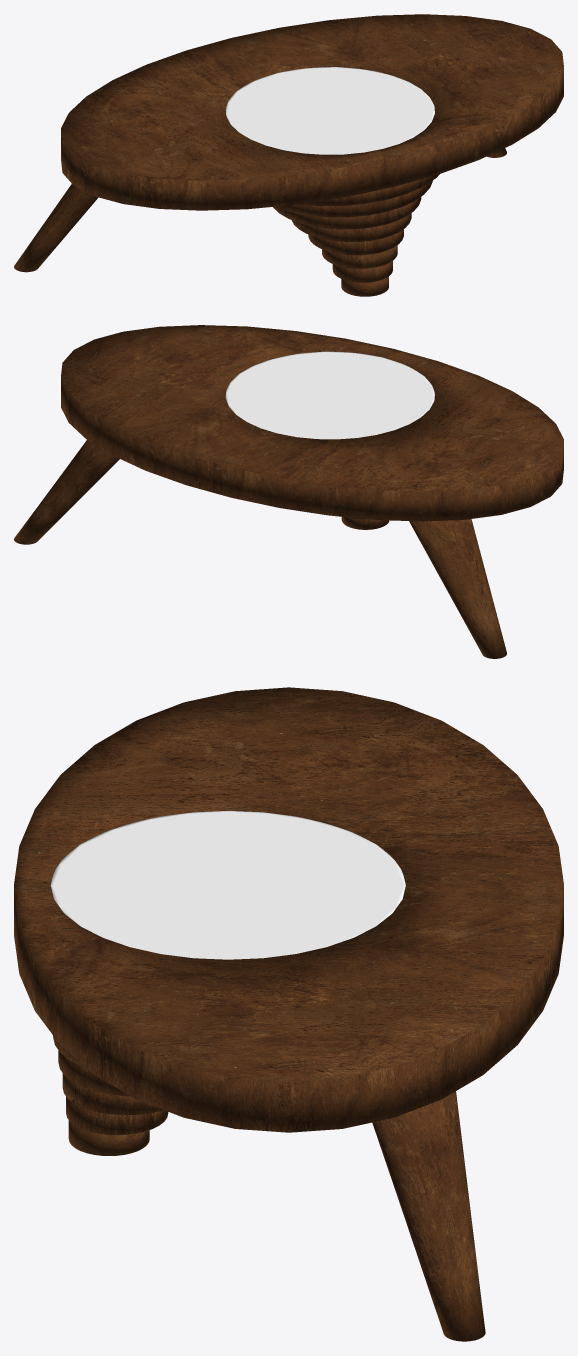
The model's file is table.glb.
3 renders of one model, top to bottom at view 1: azimuth 30°, elevation 25°; view 2: azimuth 150°, elevation 25°; view 3: azimuth 270°, elevation 25°, orthographic. The views are drawn at different scales.
Visible parts, largest first — view 1: wood_table, glass; view 2: wood_table, glass; view 3: wood_table, glass.
Part boxes in pixels (left/top/right/bottom): wood_table: left=14, top=14, right=563, bottom=296; glass: left=225, top=67, right=434, bottom=154; wood_table: left=14, top=325, right=563, bottom=658; glass: left=225, top=351, right=434, bottom=439; wood_table: left=14, top=687, right=563, bottom=1341; glass: left=50, top=811, right=405, bottom=959.
Bounding box in the file's own units: 1.7 × 0.5 × 0.9789.
2 materials, 1 textured.
